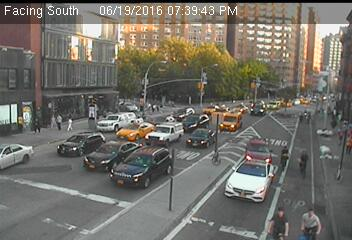neg: (180, 162, 207, 198), (45, 165, 71, 200), (111, 164, 136, 198), (16, 61, 41, 94), (191, 53, 215, 85), (256, 105, 278, 134), (221, 127, 242, 156), (67, 47, 88, 76), (251, 60, 272, 88), (155, 61, 176, 88), (169, 109, 189, 137), (115, 100, 135, 127), (303, 42, 323, 69), (295, 86, 307, 102)
pos: (297, 203, 322, 237), (293, 150, 317, 182), (269, 200, 291, 230), (274, 147, 296, 176), (63, 117, 76, 134), (53, 106, 66, 123)
